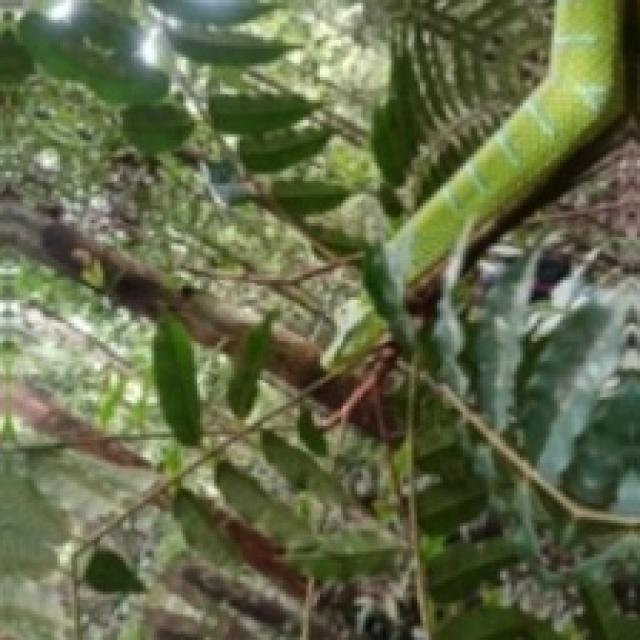north ph temple pitviper: (386, 0, 622, 309), (321, 295, 389, 369)
